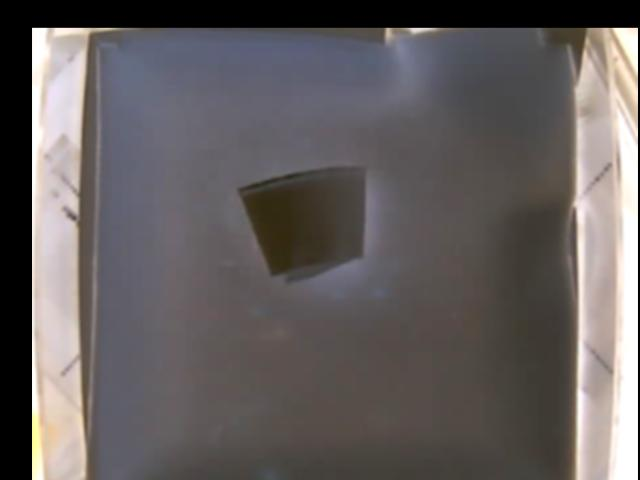Cup: (236, 162, 364, 282)
